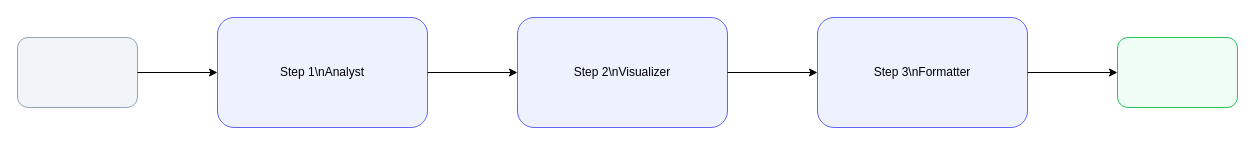
Some shapes in this 1255 by 145 pixel diagram are drawn without their labels. Each missing label, with the centre of its shape:
Input: point (77, 72)
Output: point (1177, 72)
